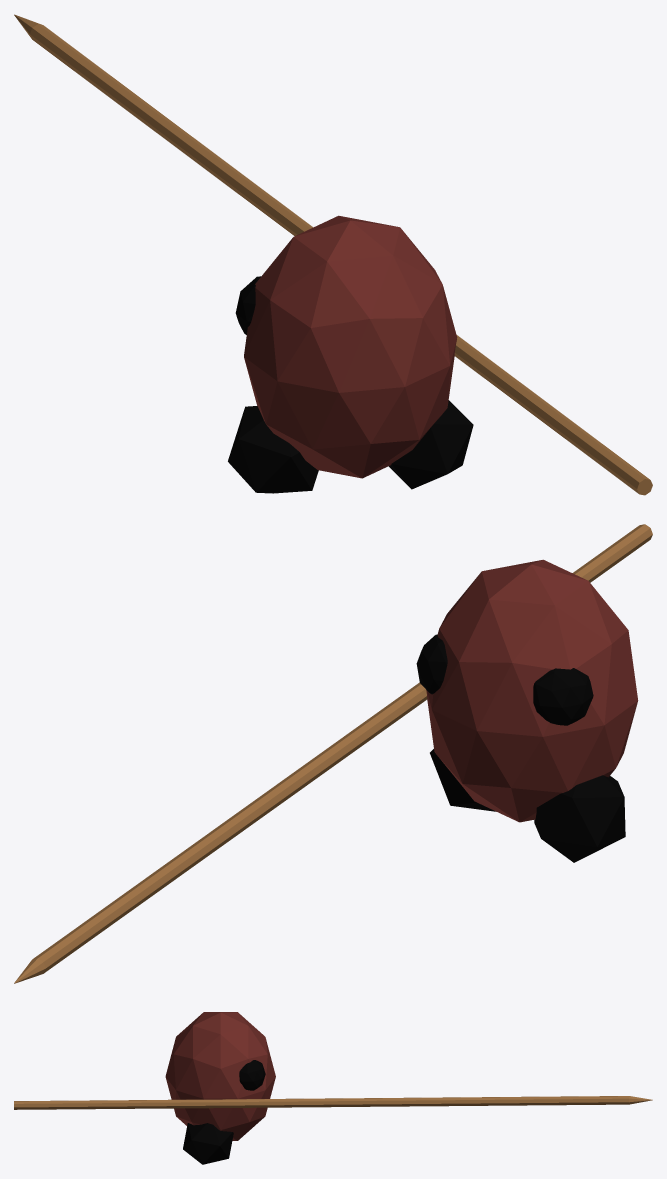
Rendered from walk.f0009.glb.
3 views of the same model, one above another, from view 1: azimuth 30°, elevation 25°; view 2: azimuth 150°, elevation 25°; view 3: azimuth 270°, elevation 25° (orthographic). The views are drawn at different scales.
Visible parts, largest first — view 1: Body.001; view 2: Body.001; view 3: Body.001.
Part boxes in pixels (box(x1,y1,x2,y2)): Body.001: box(14, 14, 652, 495); Body.001: box(14, 524, 652, 983); Body.001: box(14, 1012, 652, 1164).
Size of the model in its own units: 2.17 by 2.74 by 11.56.
Materials: 1 (1 with a texture image).
